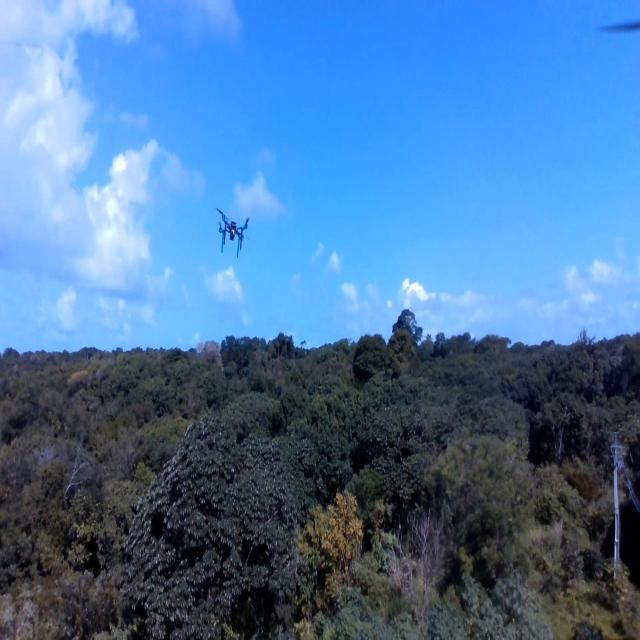-uav-: (211, 192, 258, 266)
